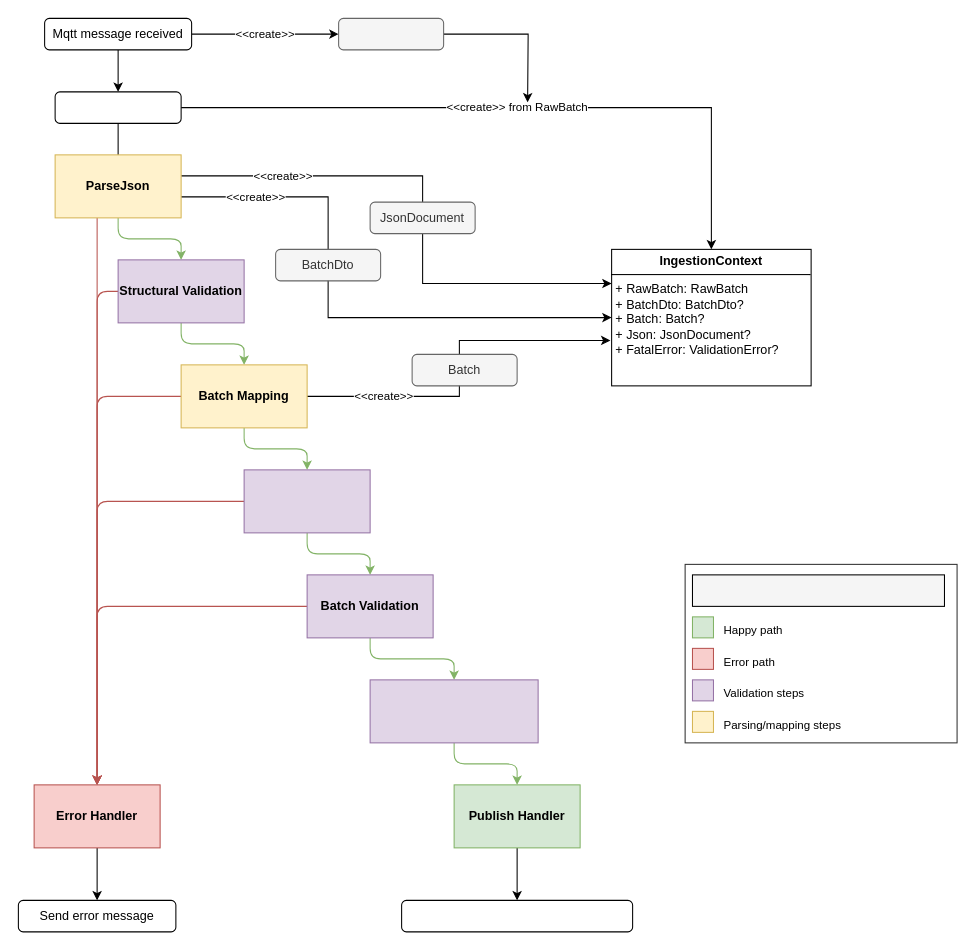
The diagram is 975 pixels wide and 950 high, and some of its shapes have lost their labels. Each missing label, with the box of its shape:
IngestionService: (54, 91, 181, 123)
Legend: (691, 574, 944, 606)
Measurement Validation: (369, 679, 538, 743)
RawBatch: (338, 17, 444, 50)
Send measurement received message: (401, 899, 633, 932)
Topic Validation: (243, 469, 370, 533)
